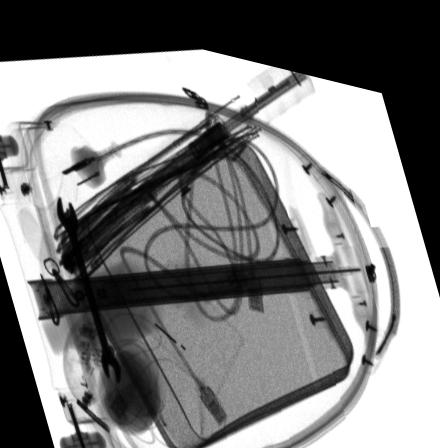Wrench: (55, 193, 121, 378)
